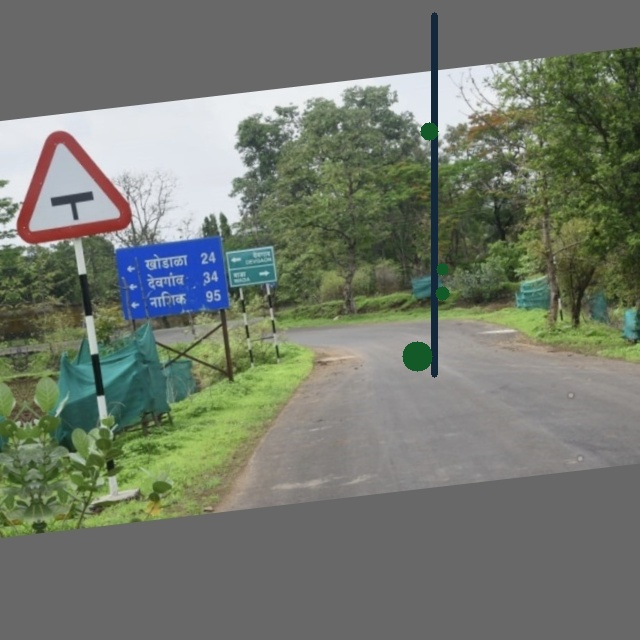T_Intersection: (10, 120, 136, 243)
